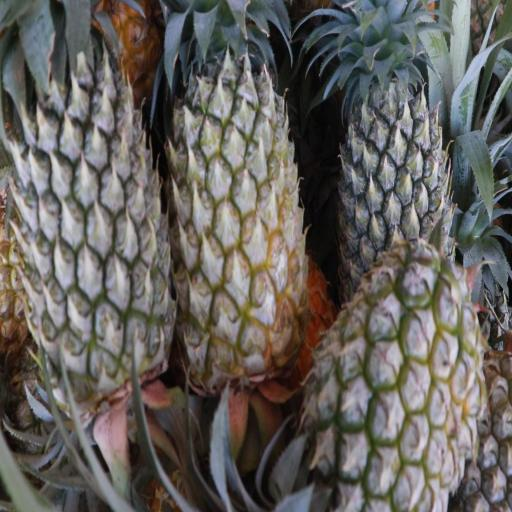------------------------------: (168, 22, 304, 390), (307, 252, 478, 504)
